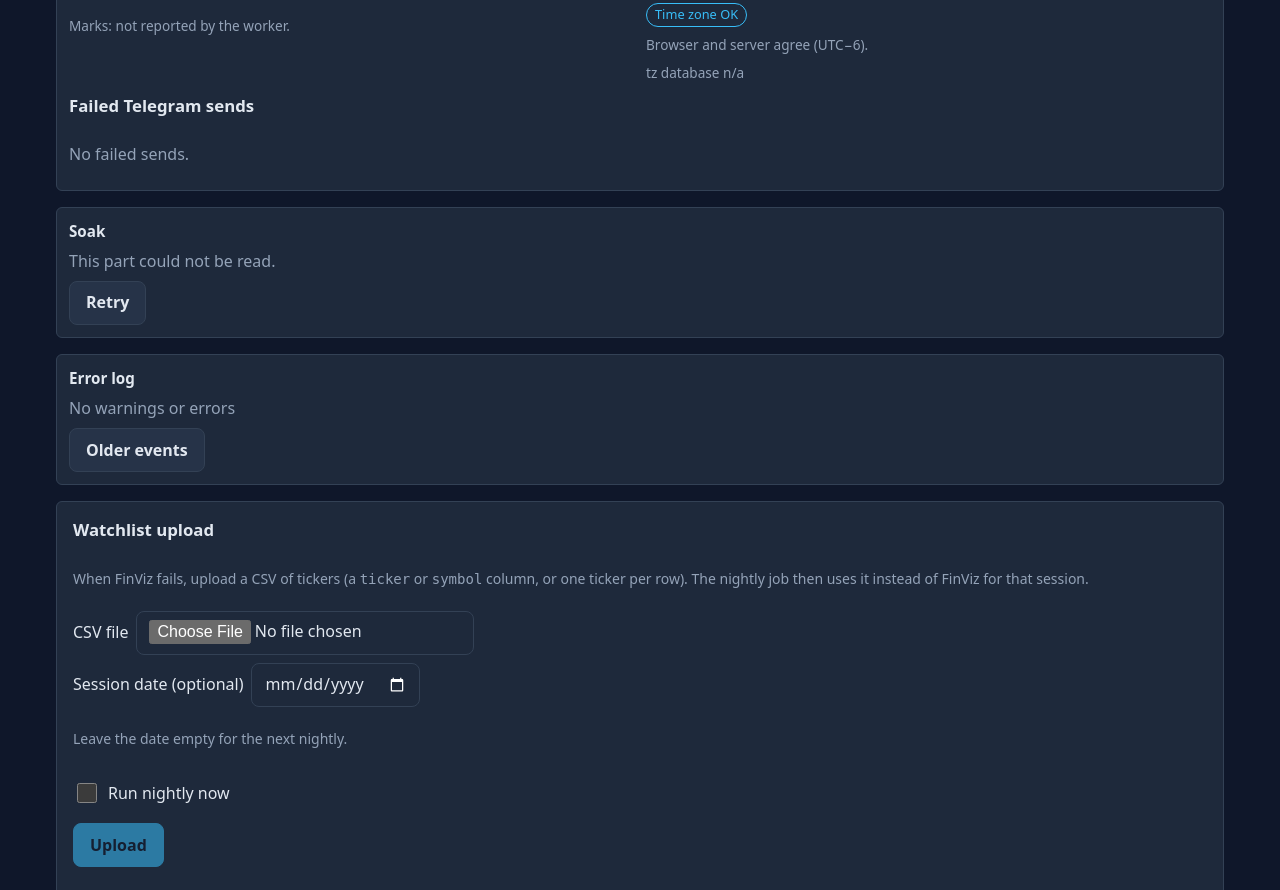
empty and null data › every page renders empty lists and null fields without an error
The image size is (1280, 890).
(page scrolled)
Click the button "Older events" at (137, 450), box [69,428,205,472]
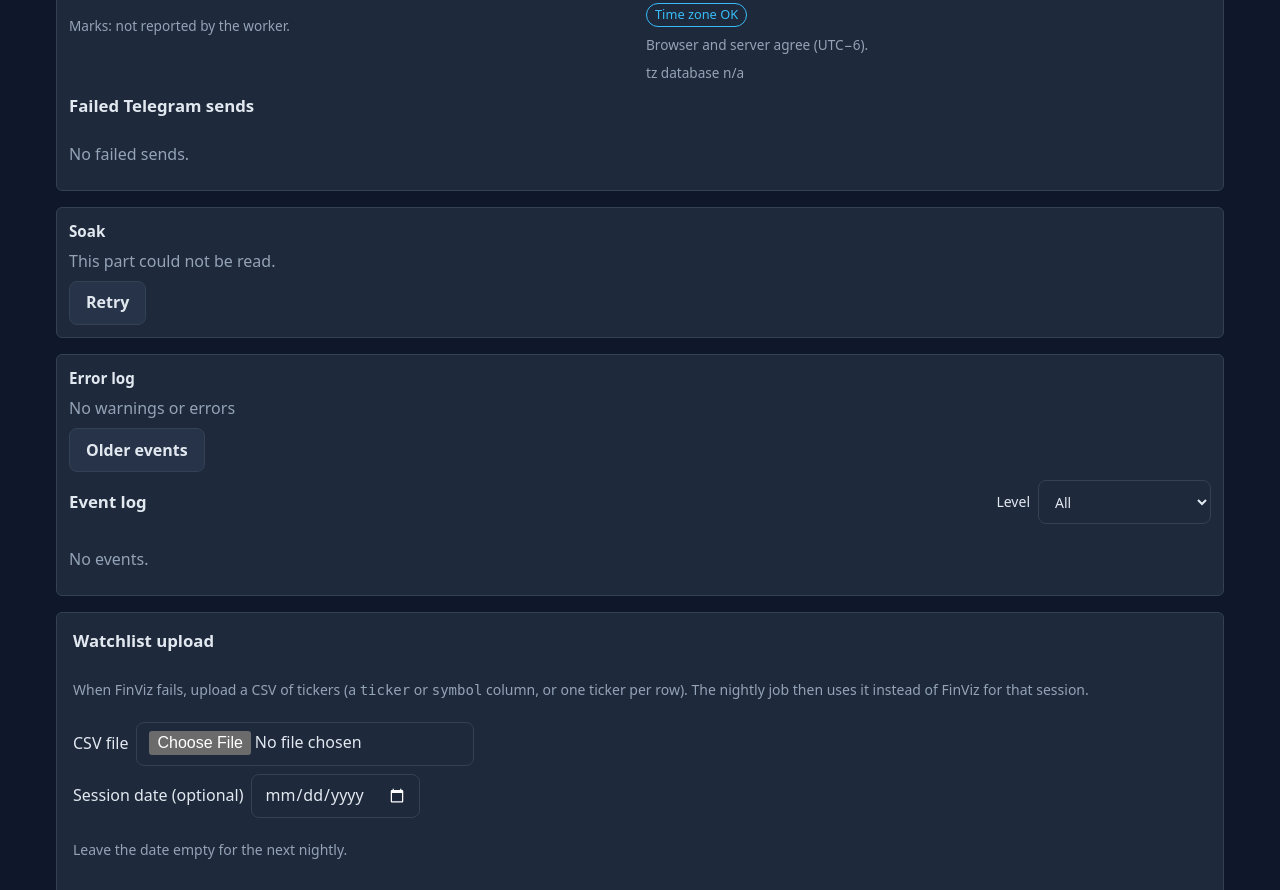
expect the text "Marks: not reported by the worker." is shown: met, box [69,16,290,36]
expect the text "No events." is shown: met, box [69,548,148,570]
